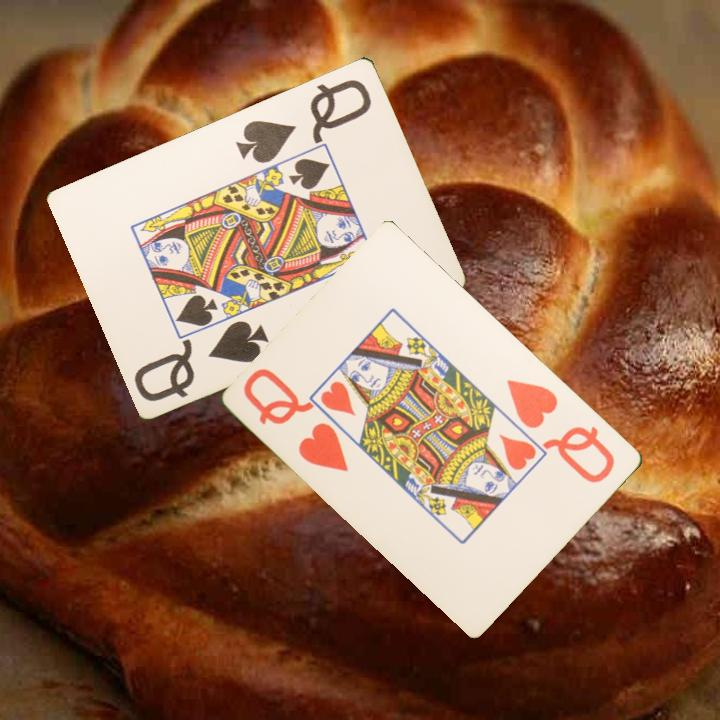Qh: (503, 375, 619, 486), (240, 364, 352, 475)
Qs: (232, 75, 375, 166), (130, 316, 272, 404)
